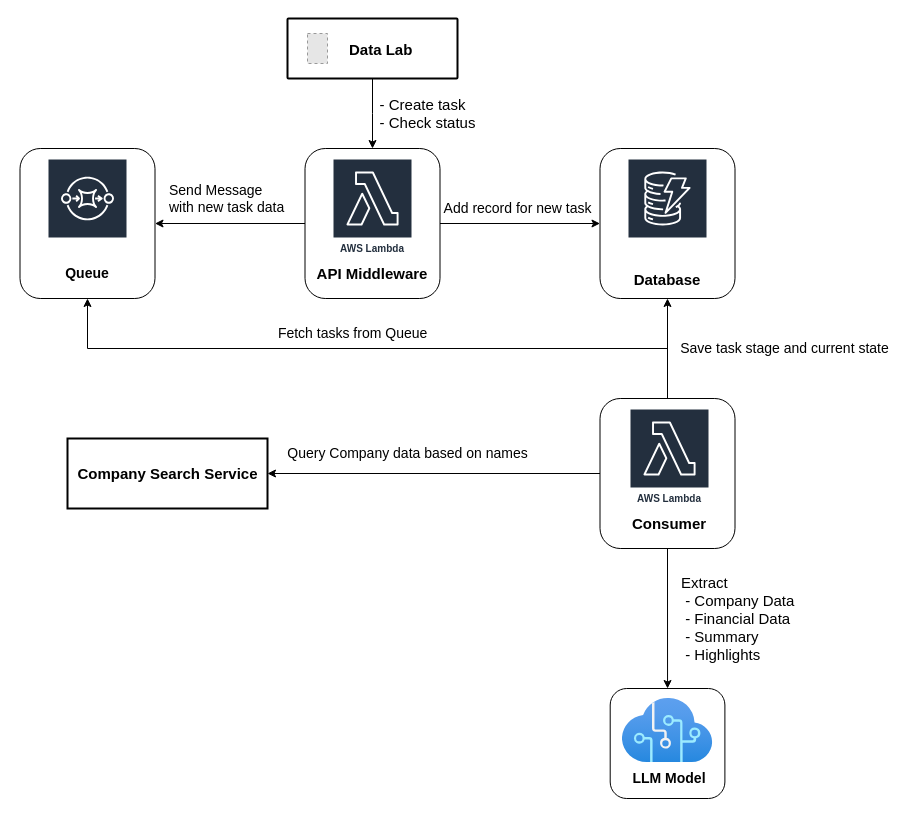
Image size: 921x816. Some labels were removed from this diagram. Grey dashed boxes stand in for pictures. Each missing label, with the box of its shape:
Amazon DynamoDB: (626, 158, 708, 268)
Amazon SQS: (46, 158, 128, 258)
